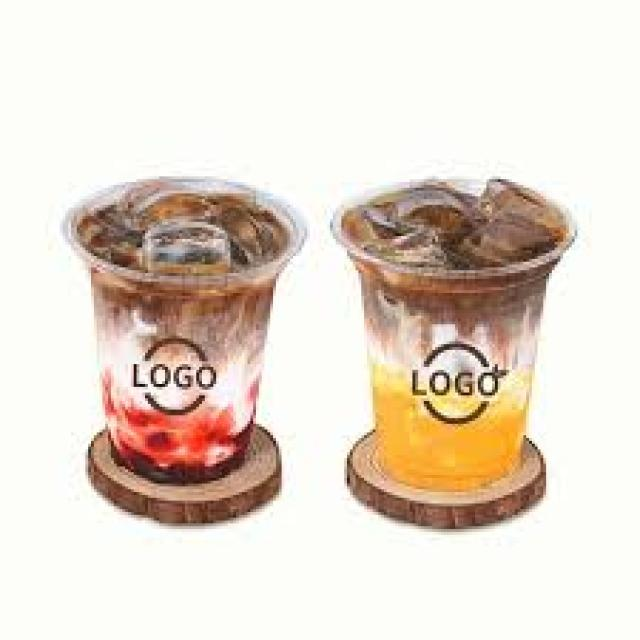cup: (332, 179, 575, 492), (64, 182, 305, 481)
